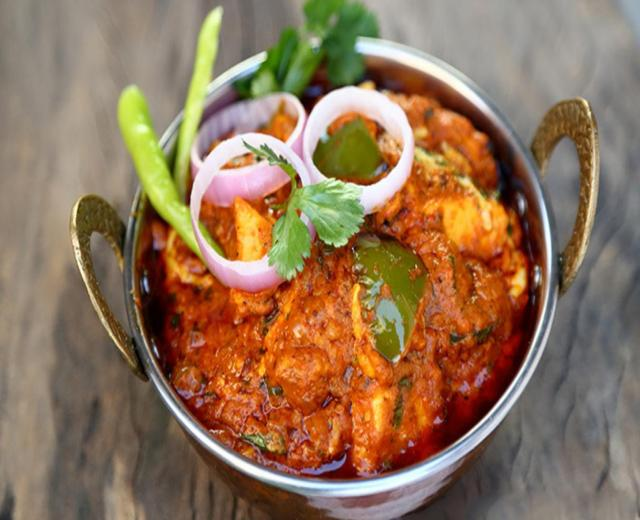kadai paneer: (138, 86, 532, 479), (356, 38, 568, 470), (109, 185, 255, 467), (205, 53, 265, 116)
